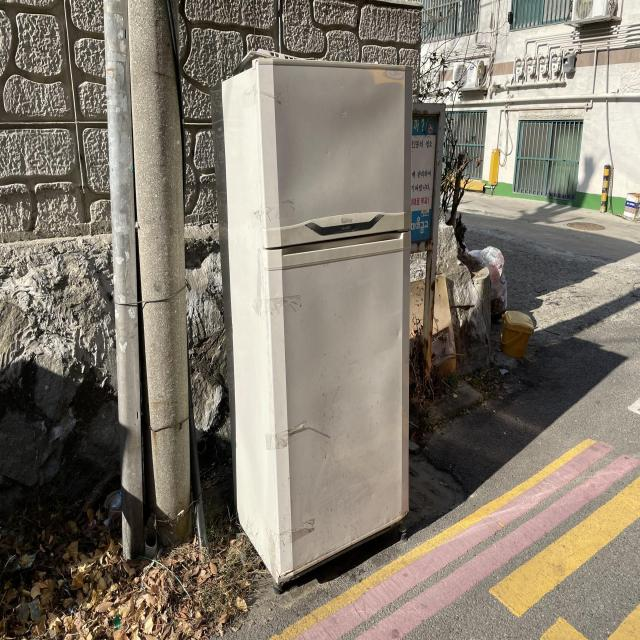refrigerator: (207, 57, 413, 597)
